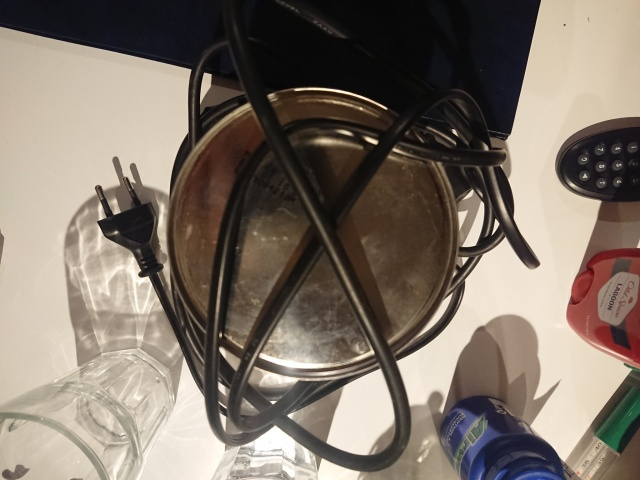Nescafe Classic 225g: (161, 83, 464, 387)
